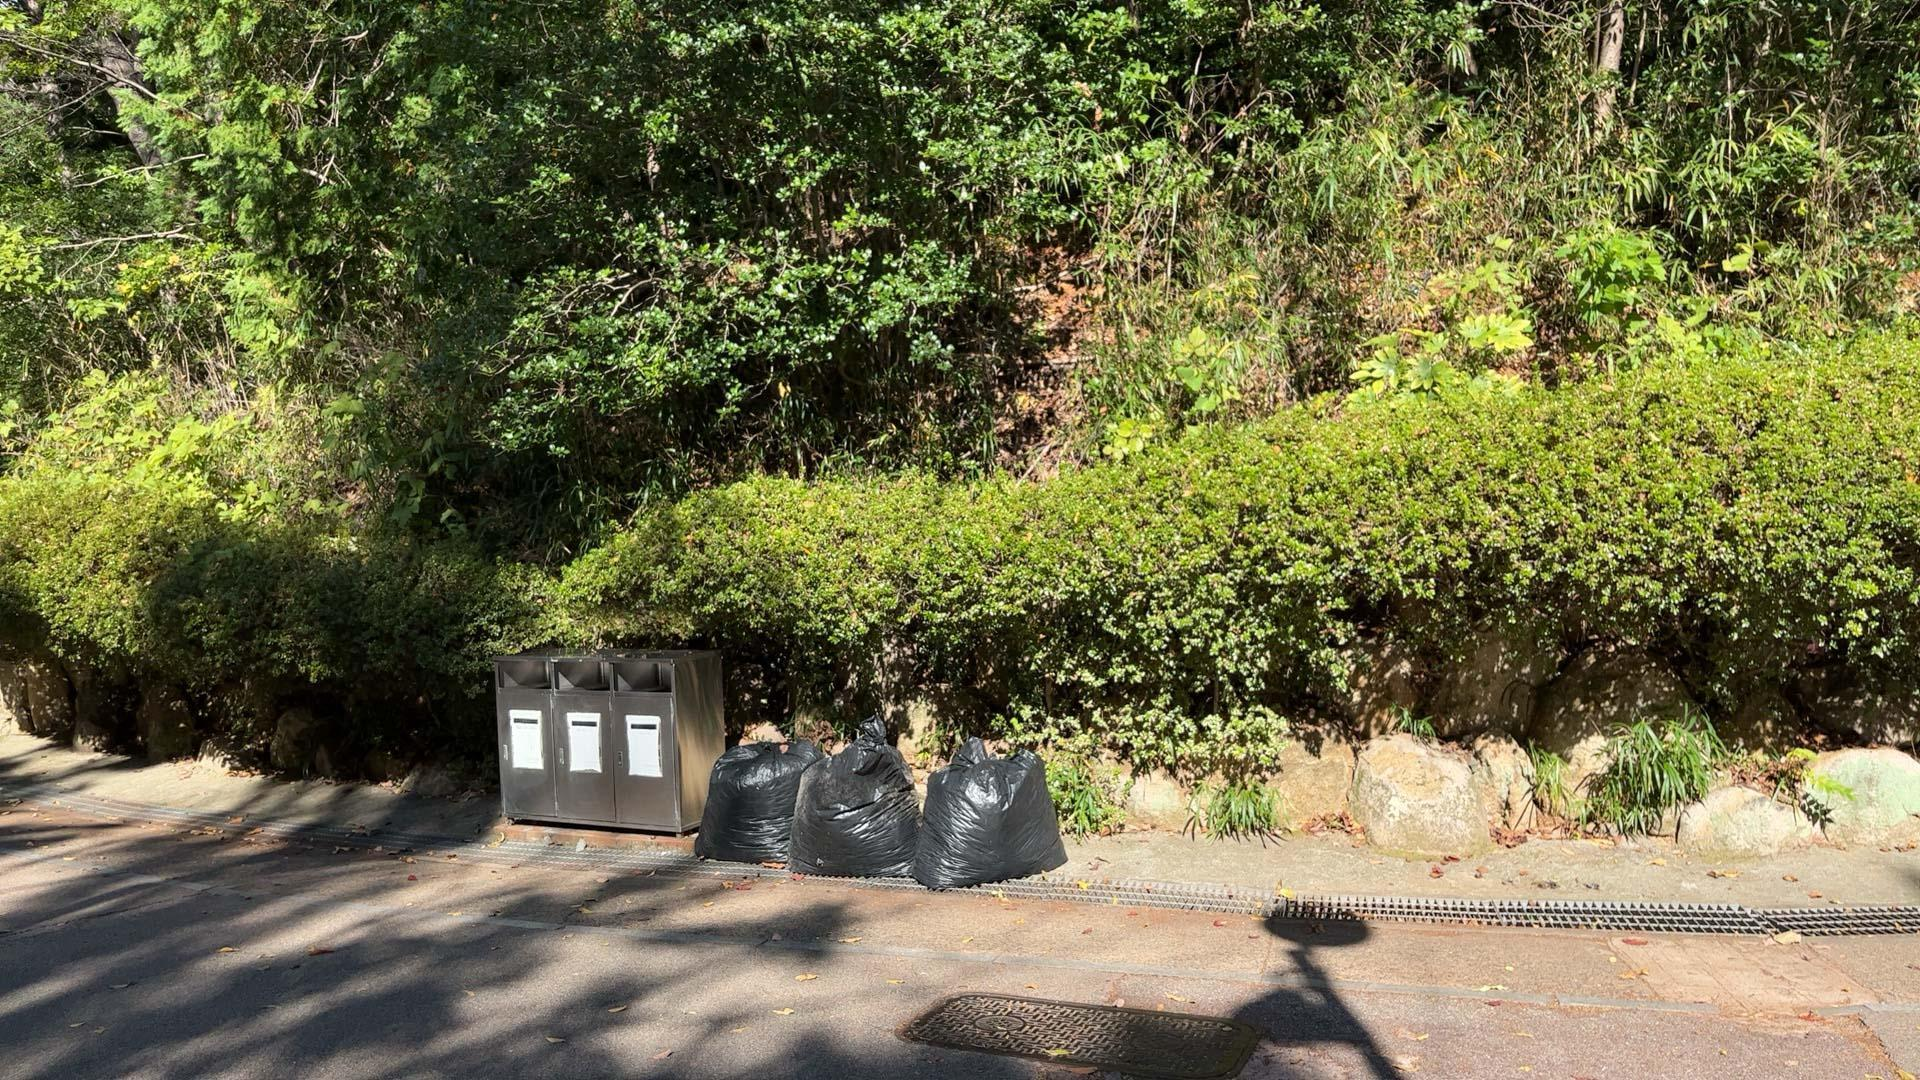black_bag: (916, 723, 1081, 890), (785, 713, 927, 882), (690, 732, 827, 870)
